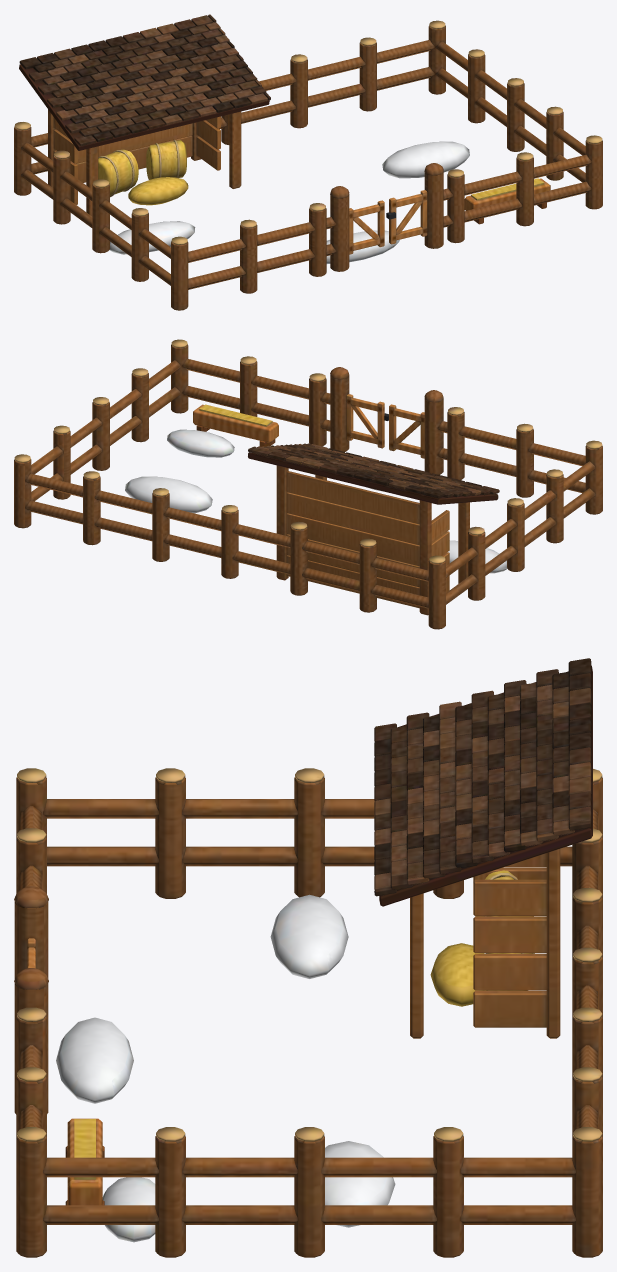
The model's file is musk_ox_range.glb.
3 views of the same model, one above another, from view 1: azimuth 30°, elevation 25°; view 2: azimuth 150°, elevation 25°; view 3: azimuth 270°, elevation 25° (orthographic). The views are drawn at different scales.
Visible parts, largest first — view 1: musk_ox_range, gate1, gate0; view 2: musk_ox_range, gate1, gate0; view 3: musk_ox_range.
Boxes of the visible parts, bbox=[...] form: musk_ox_range: bbox=[14, 14, 602, 310]; gate1: bbox=[386, 190, 427, 244]; gate0: bbox=[349, 200, 384, 254]; musk_ox_range: bbox=[14, 339, 602, 629]; gate1: bbox=[346, 394, 388, 448]; gate0: bbox=[389, 404, 424, 458]; musk_ox_range: bbox=[14, 658, 602, 1257].
Bounding box in the file's own units: 3 × 0.9663 × 2.01.
Materials: 1 (1 with a texture image).
